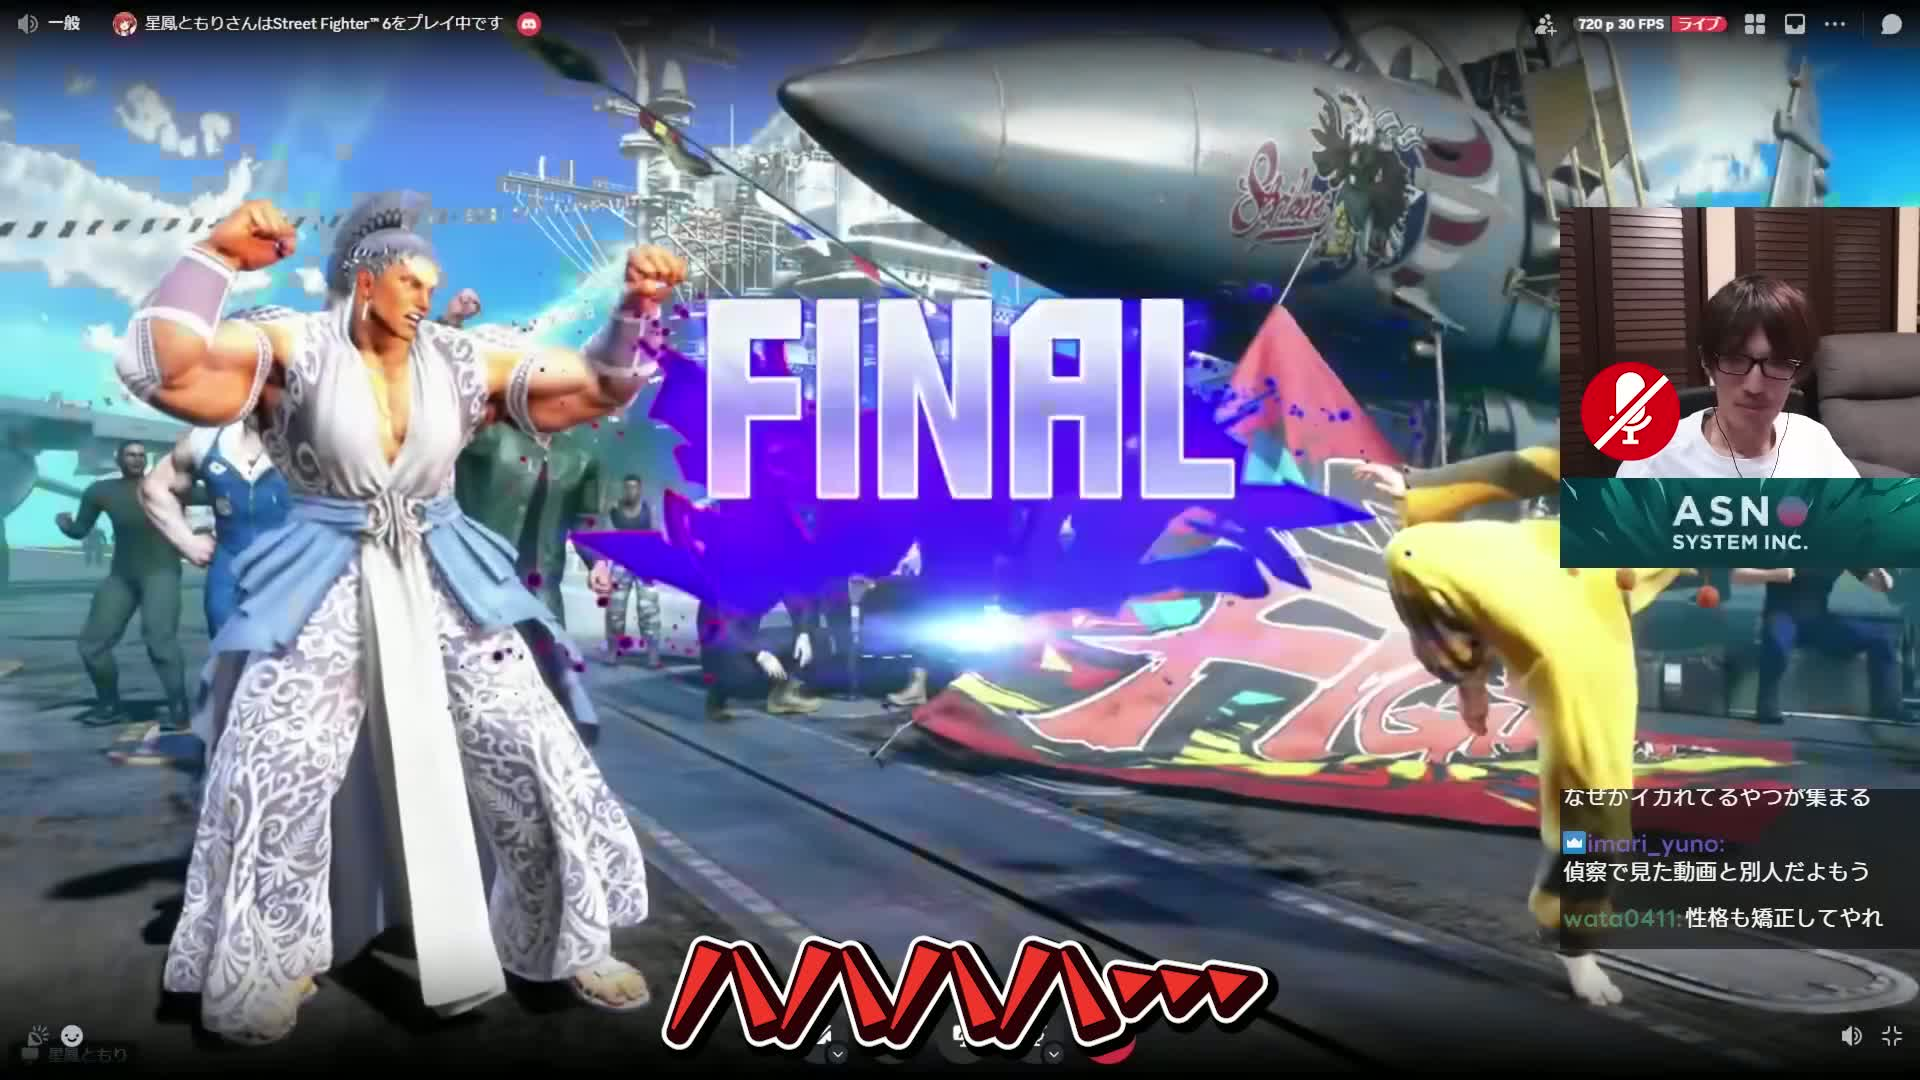stream_tag: (1563, 206, 1920, 469)
